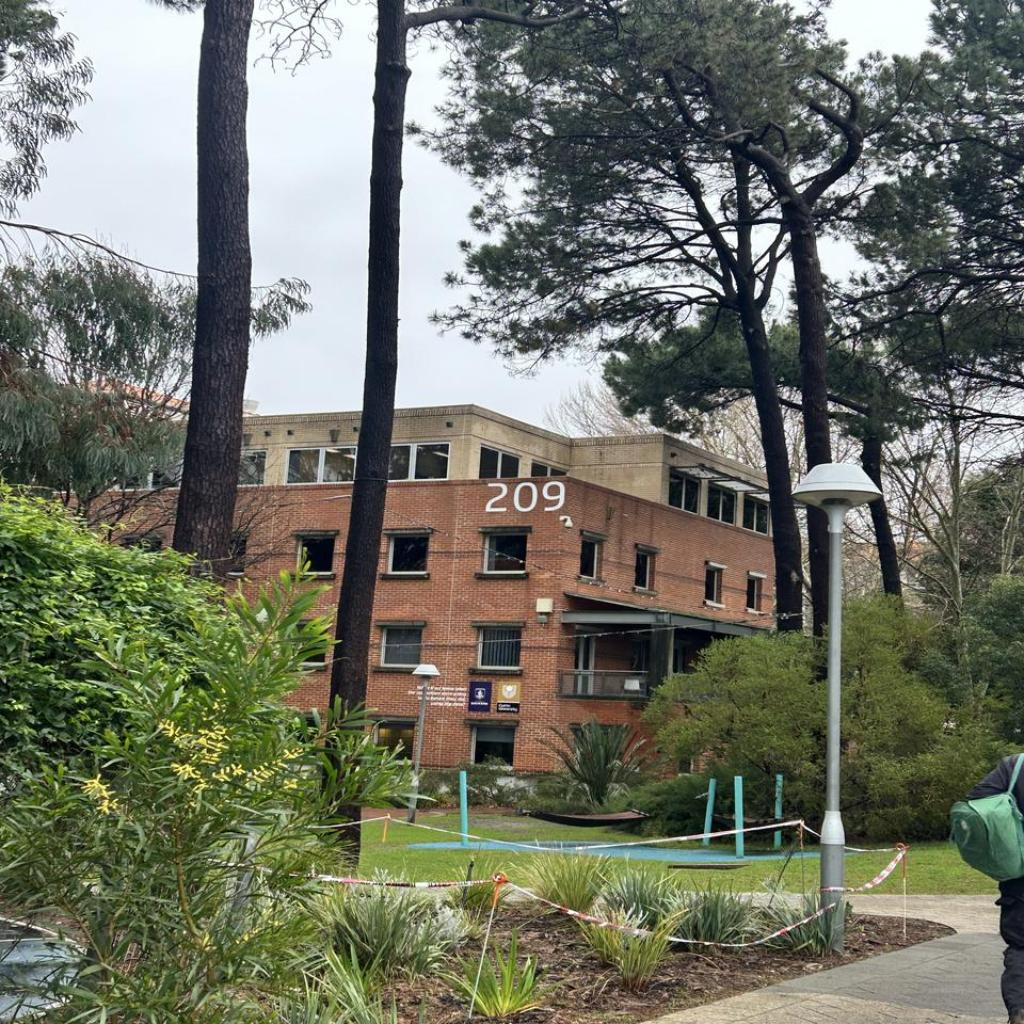BuildingCodes: (485, 480, 567, 514)
